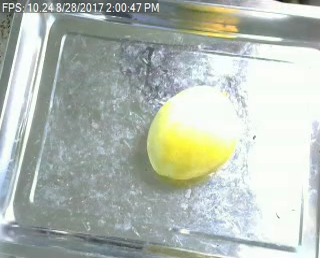Mango: (146, 85, 238, 178)
